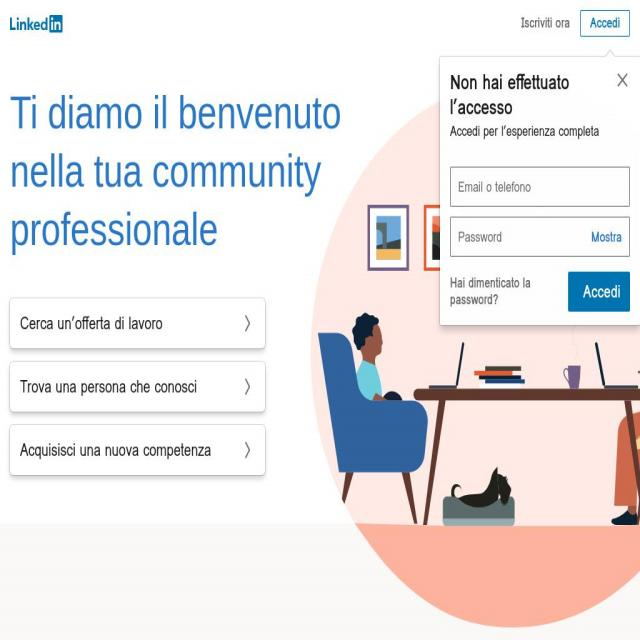login-form: (439, 55, 636, 323)
login-option: (579, 10, 631, 40)
navigation-links: (9, 292, 270, 485), (516, 10, 574, 38)
